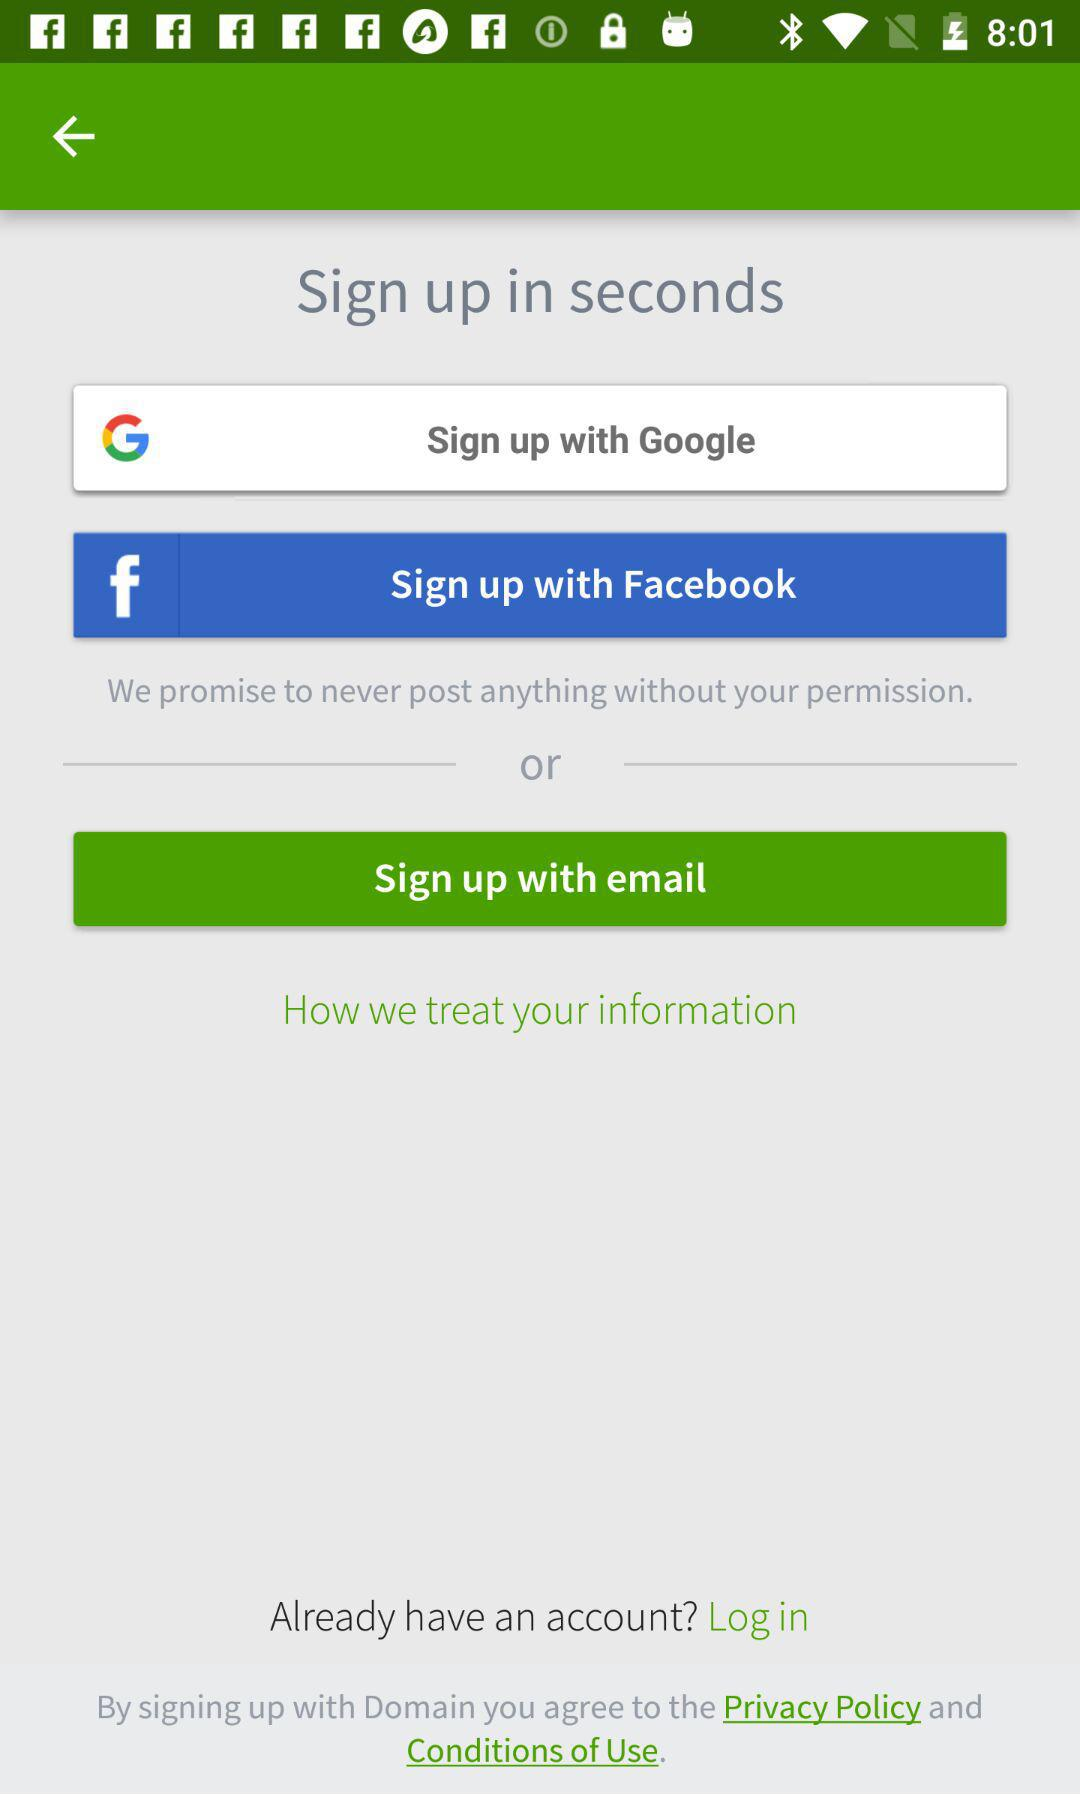Icon: (53, 117, 97, 159)
Text: (97, 1693, 983, 1768), (297, 267, 784, 328), (108, 677, 972, 710), (284, 991, 796, 1035), (270, 1599, 807, 1642), (520, 753, 562, 782)
TextButton: (73, 384, 1008, 493), (74, 533, 1007, 639), (74, 832, 1007, 926)
Toolbar: (1, 64, 1080, 211)
UpperTaskBar: (1, 1, 1080, 64)
